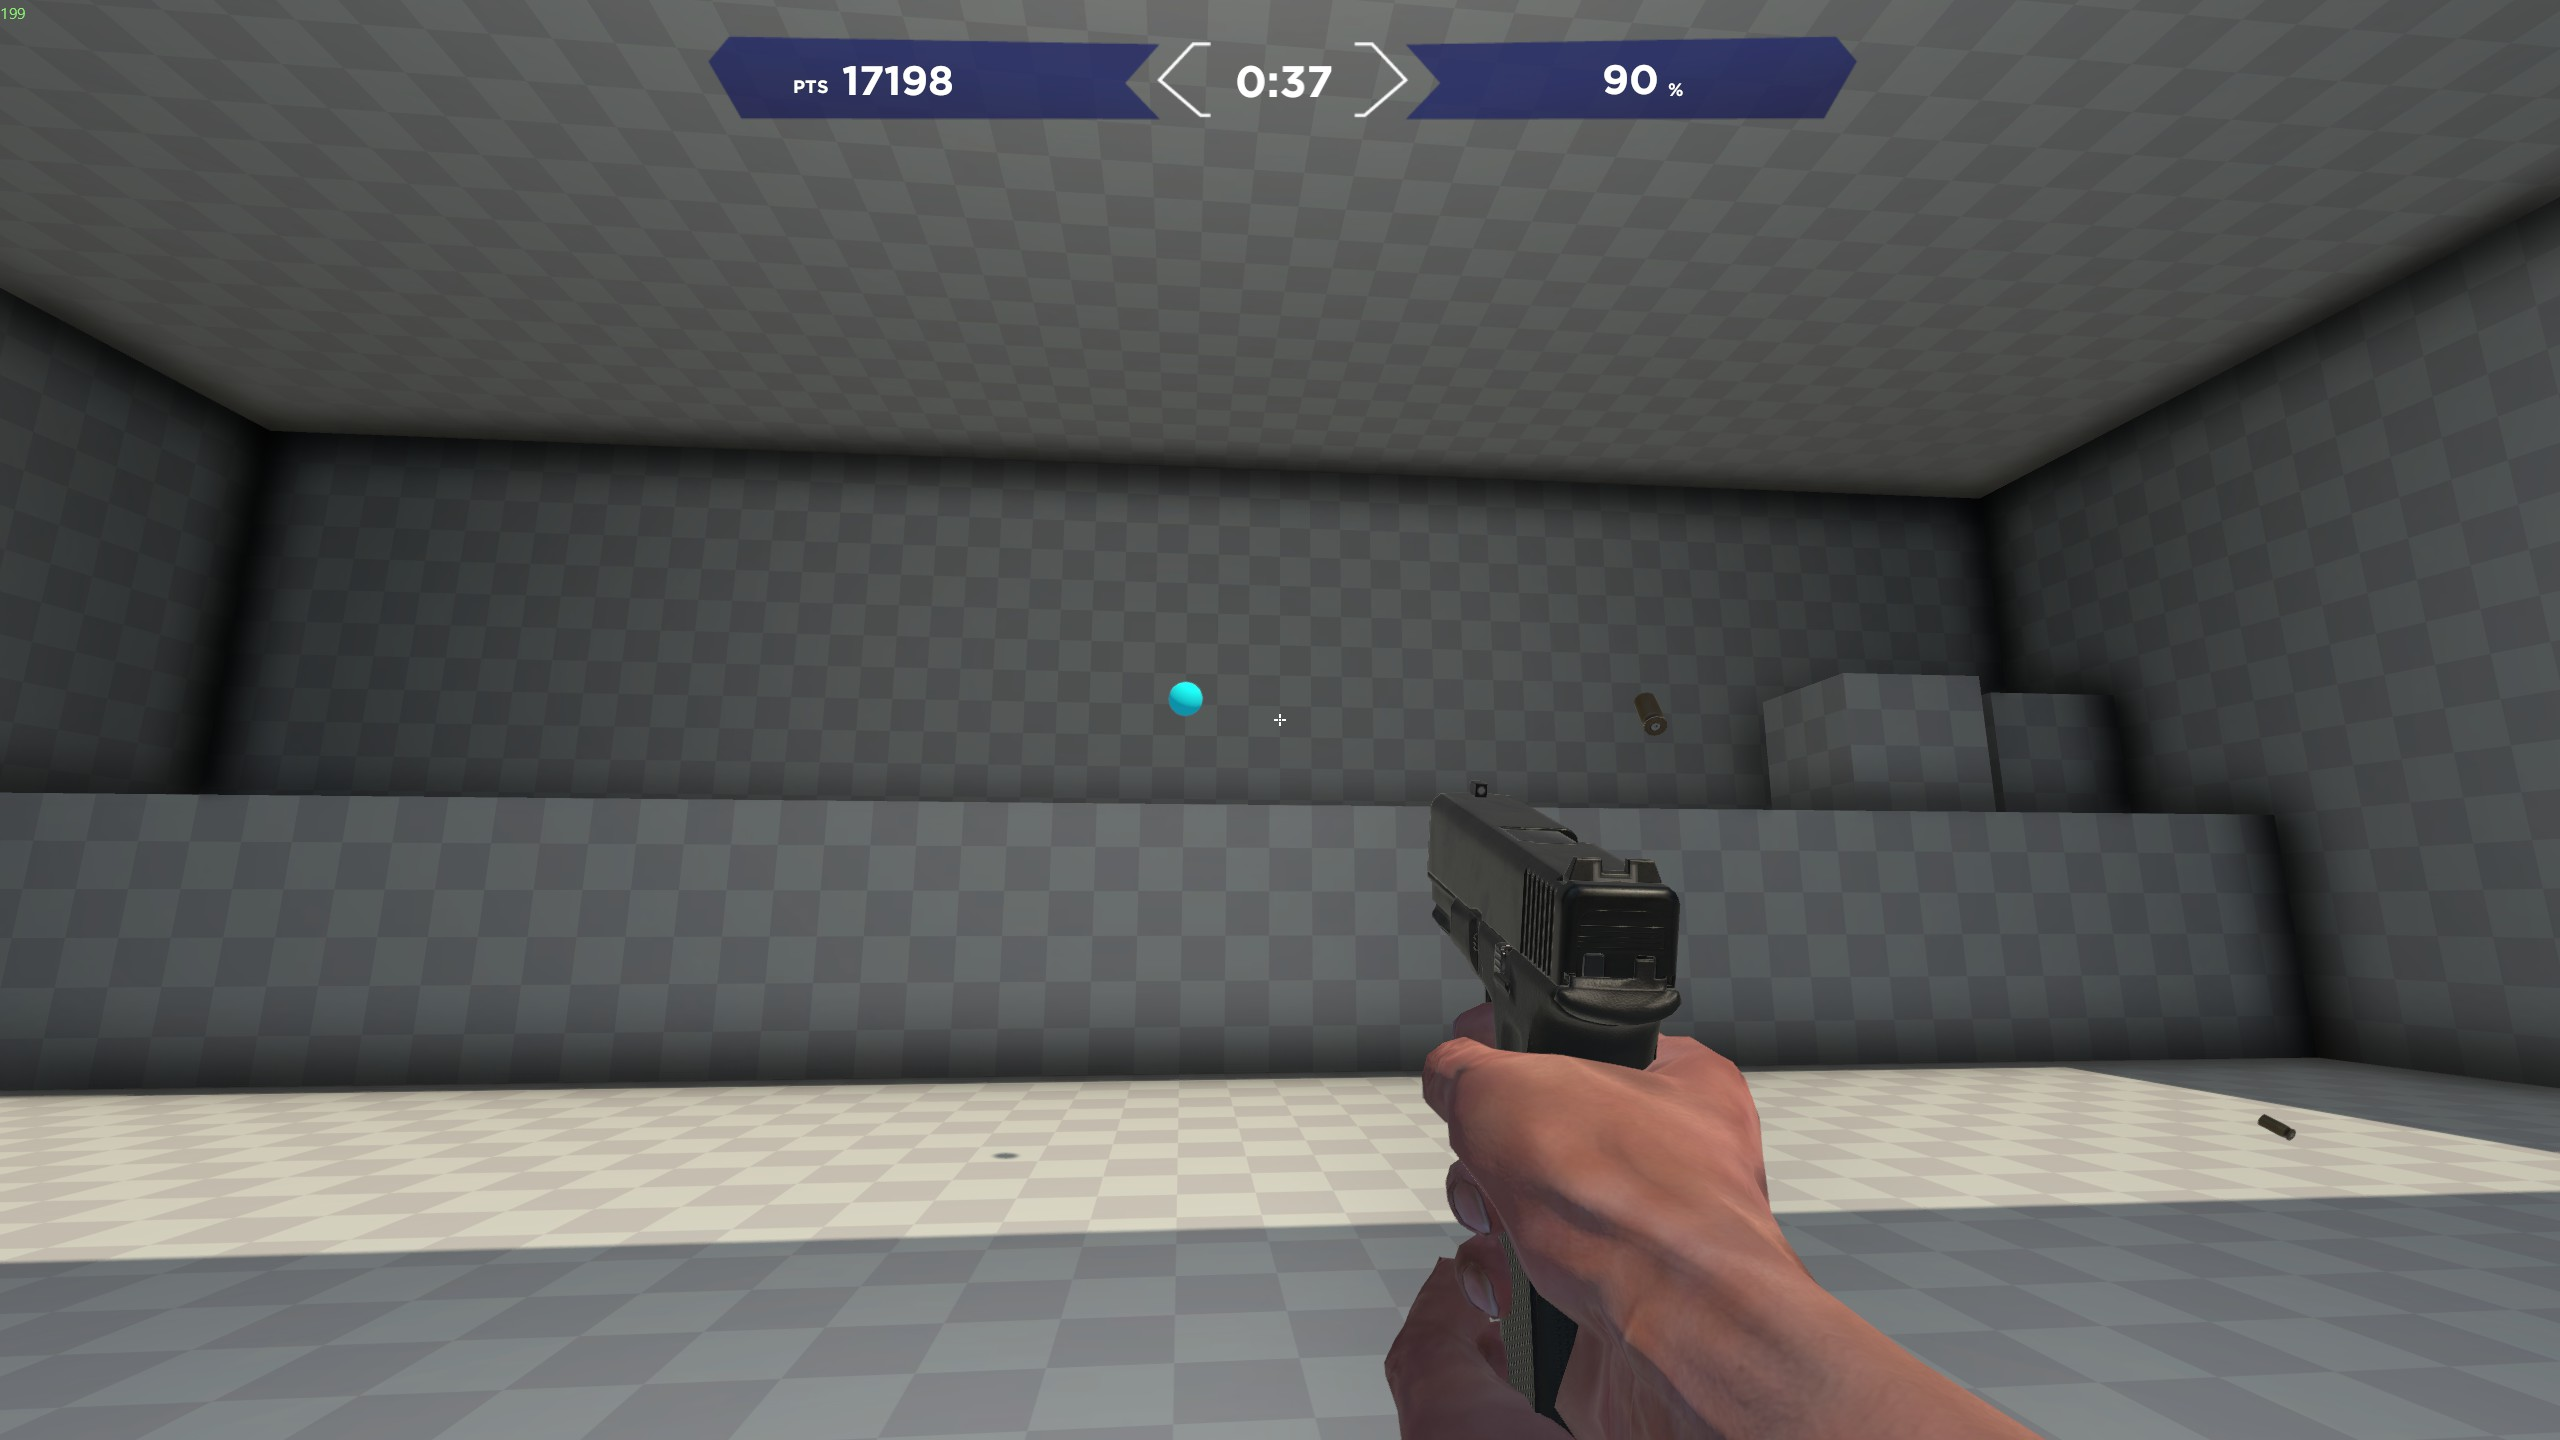Target: (1162, 682, 1217, 721)
